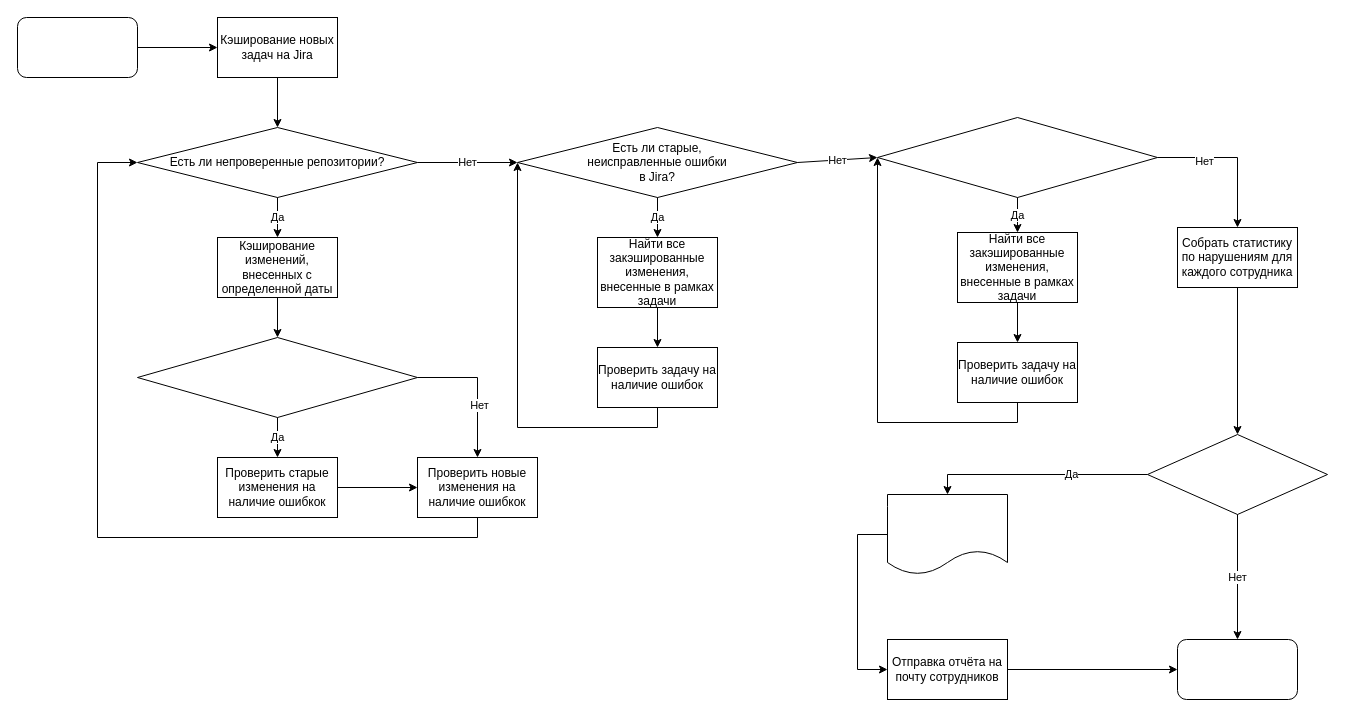
Image size: 1345x717. Some labels were removed from this diagram. The shapes that lost their labels are listed below. From the top down, each one's centre as x and y in pixels, then its label:
At (77,47): "Запуск".
At (1017,157): "Есть ли непроверенные, закэшированные задачи с JIra?".
At (277,377): "Есть ли старые, неисправленные ошибки в изменениях в репозитории?".
At (1237,474): "Нужно ли отправить отчёт?".
At (947,534): "Генерация HTML отчёта".
At (1237,669): "Завершение".
